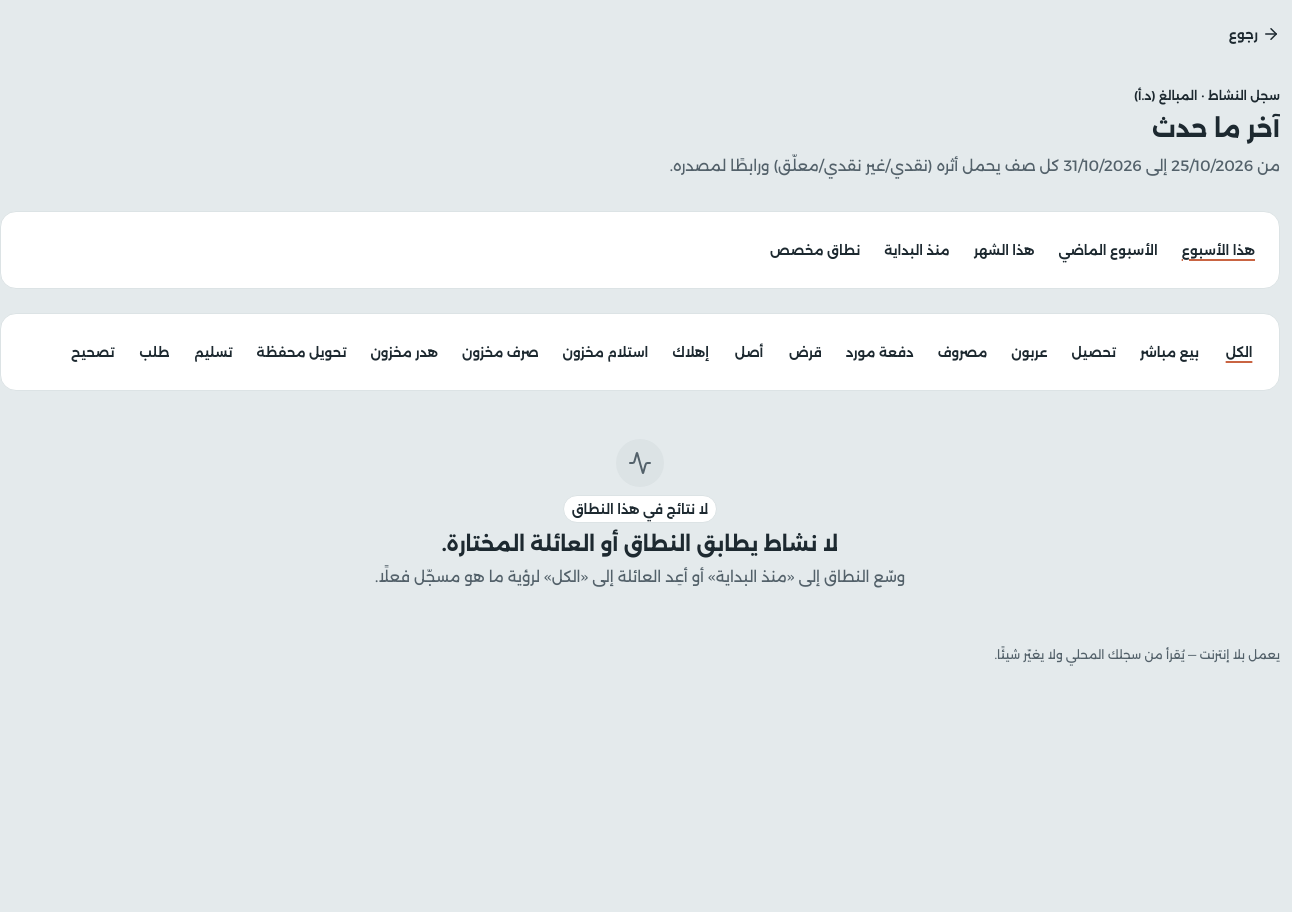
Scenario: R2 FinanceActivity: no-data is not no-results (D8) › widening the range to all reveals the recorded rows again
The image size is (1292, 912).
Expected: the text "لا نتائج في هذا النطاق" is shown, [572,500,708,519]
Click the button "منذ البداية" at [917, 250], box [876,228,958,272]
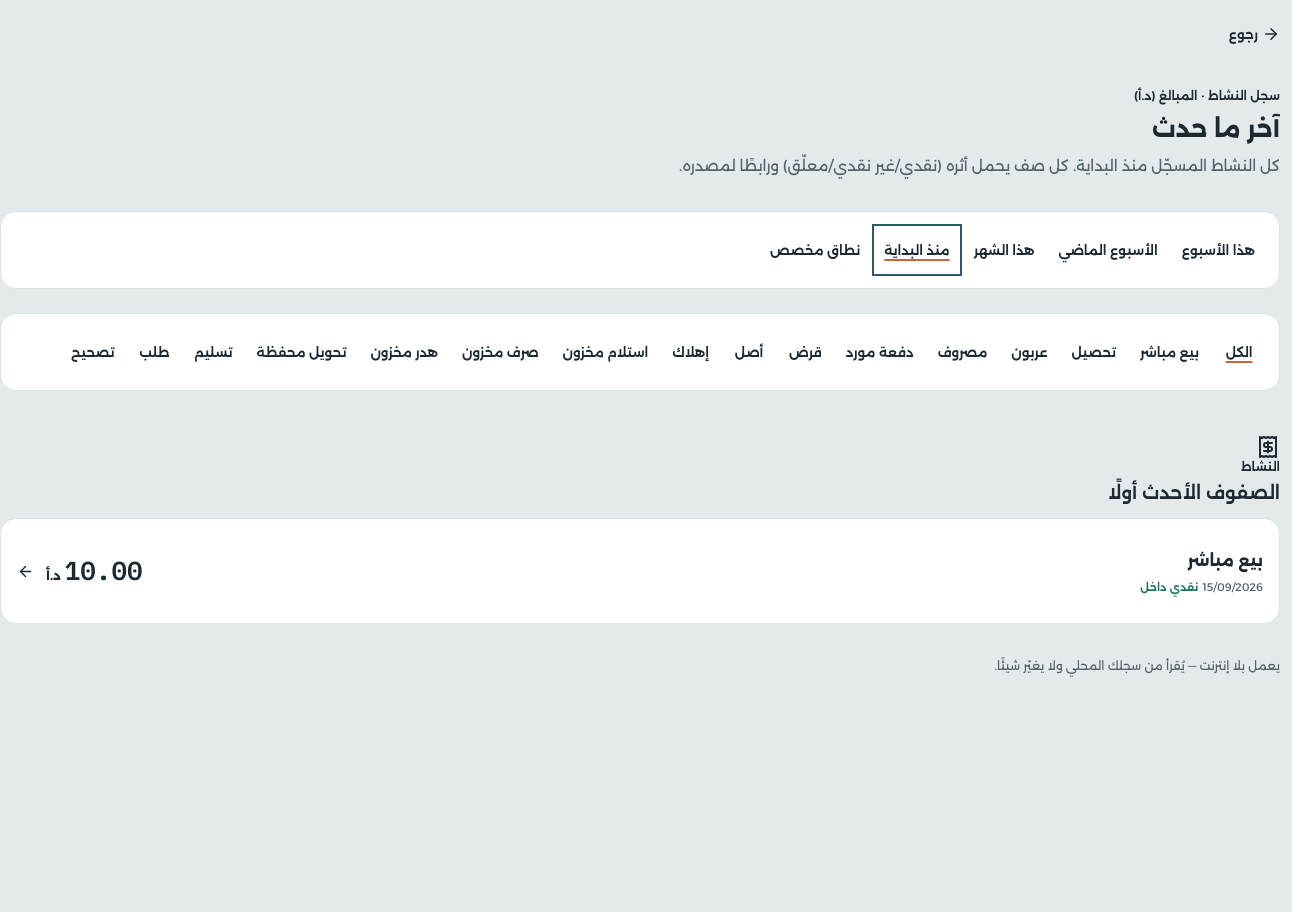
Expected: the text "لا نتائج في هذا النطاق" is gone
